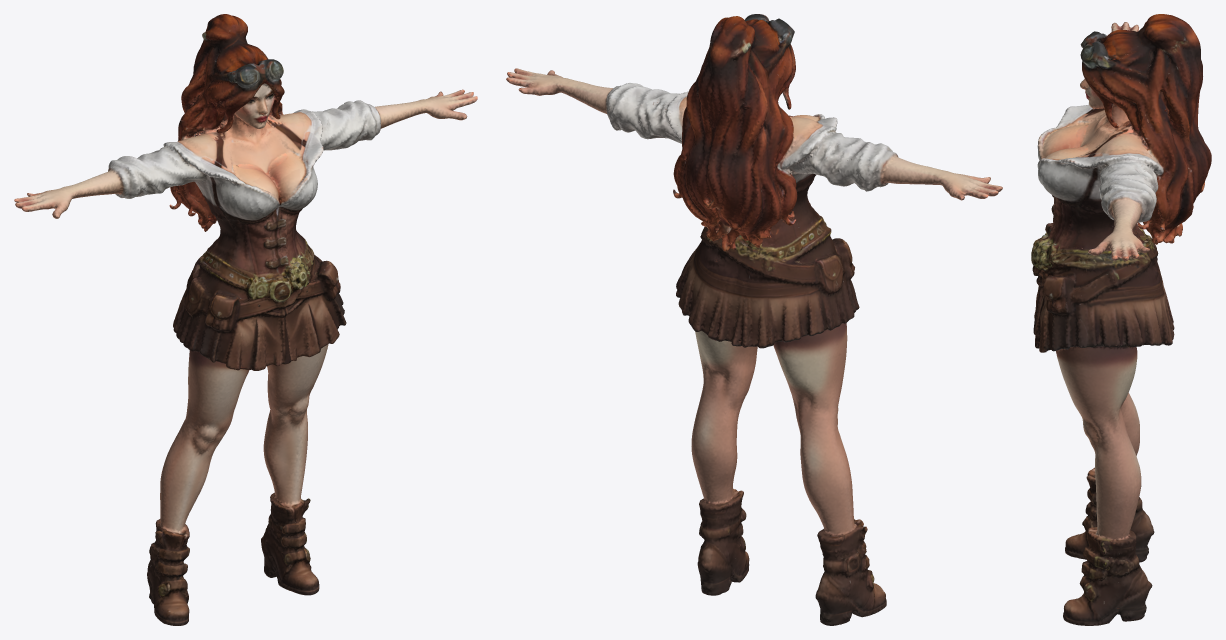
Rendered from Meshy_AI_Steampunk_Adventurer_0106070429_texture.fbx.
3 views of the same model, side by side, from view 1: azimuth 30°, elevation 25°; view 2: azimuth 150°, elevation 25°; view 3: azimuth 270°, elevation 25° (orthographic). The views are drawn at different scales.
Visible parts, largest first — view 1: output; view 2: output; view 3: output.
Boxes of the visible parts, bbox=[...] form: output: bbox=[14, 14, 477, 625]; output: bbox=[506, 14, 1002, 625]; output: bbox=[1031, 14, 1211, 625].
Size of the model in its own units: 166 by 192 by 53.6.
Materials: 1 (1 with a texture image).
